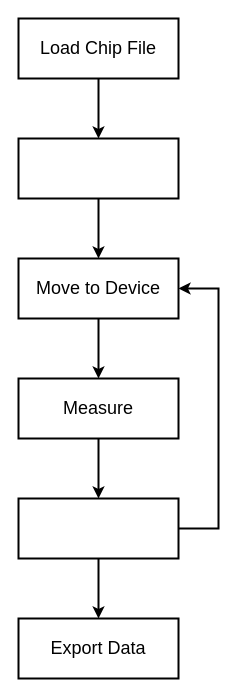
Image size: 244x696. Some labels were removed from this diagram. The centre of each missing label's shape, as x and y in pixels:
"Plot" goes at point (98, 528).
"Select Devices" goes at point (98, 168).
